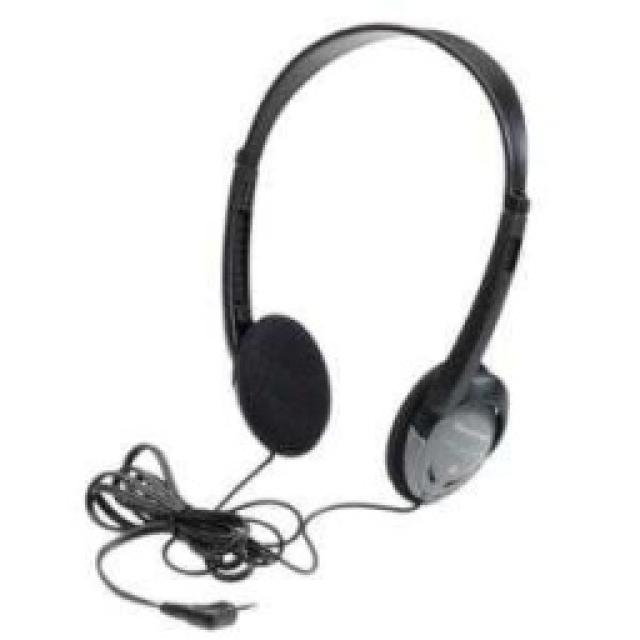headphones: (218, 20, 530, 505)
